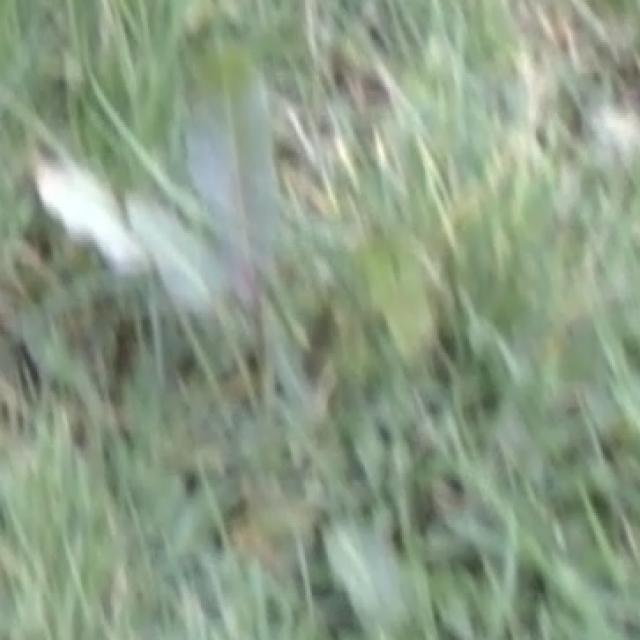organic waste: (0, 0, 305, 407), (262, 462, 425, 640)
